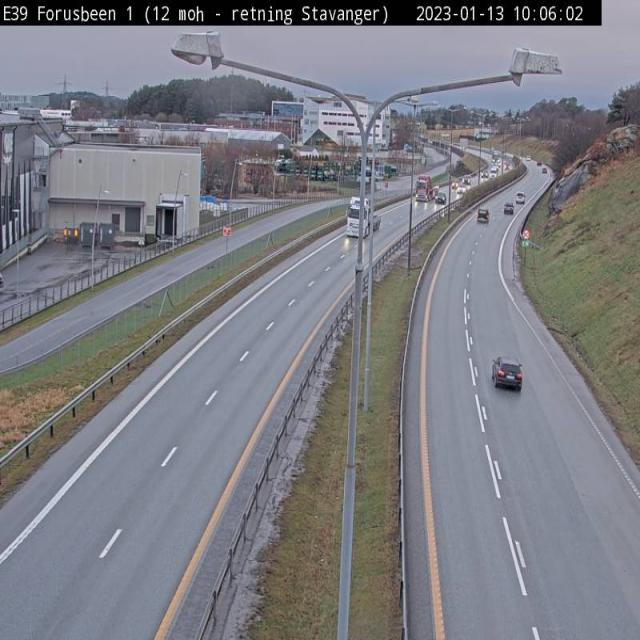car: (492, 355, 524, 391)
